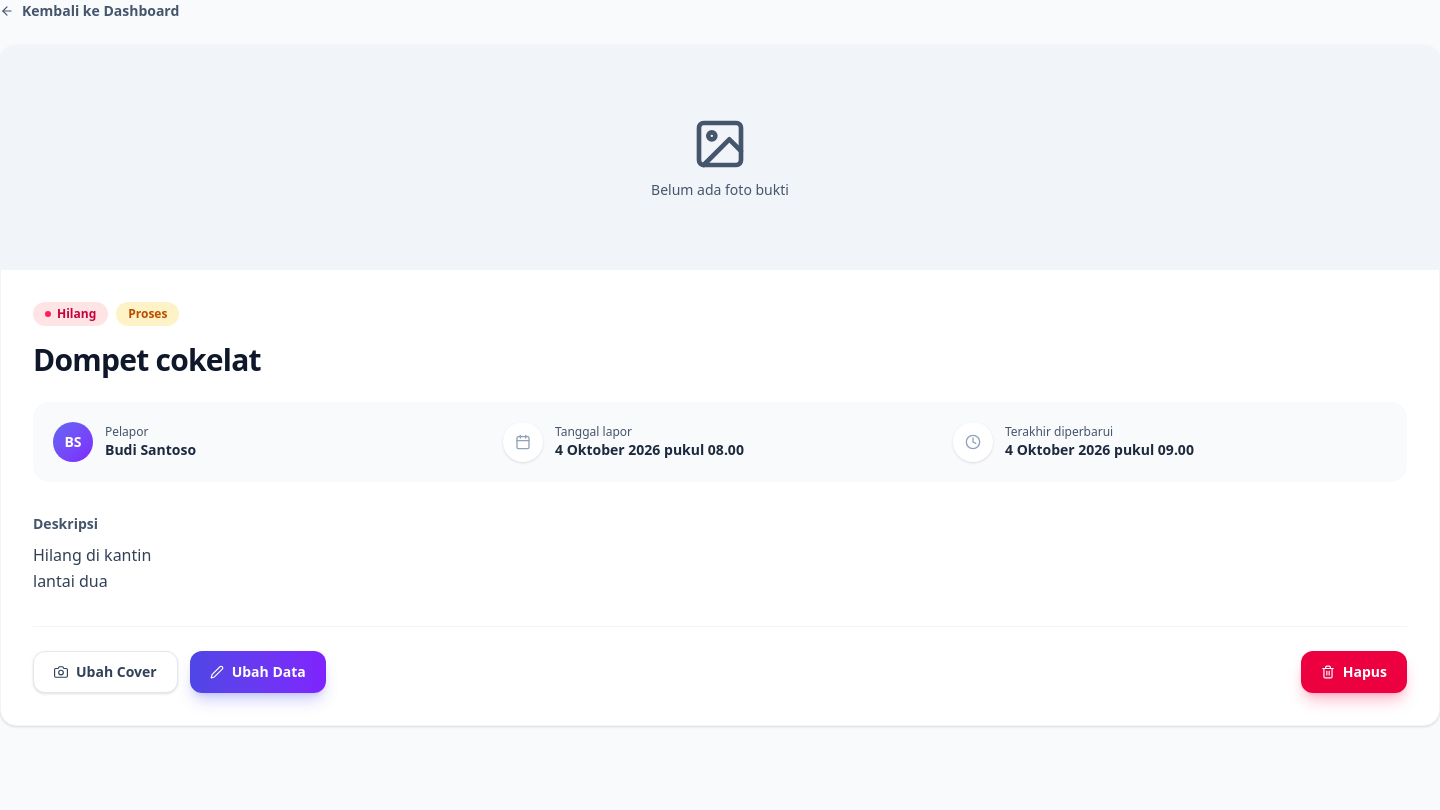
Scenario: DetailPage › ubah cover › menutup modal saat dibatalkan
The image size is (1440, 810).
expect the heading "Dompet cokelat" is shown: met, box [33, 339, 261, 380]
Click the button "Ubah Cover": (105, 672) [33, 651, 178, 693]
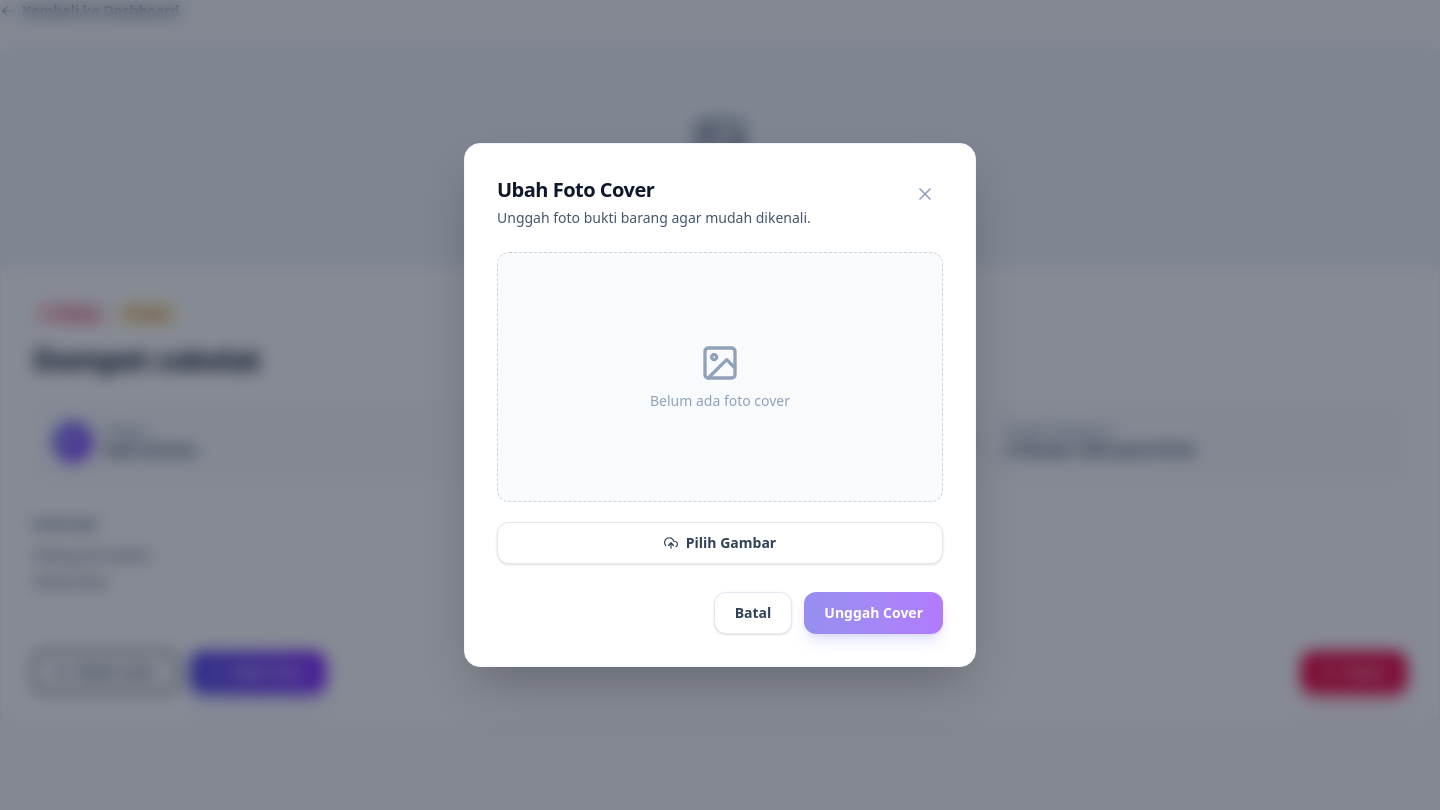
Click the button "Batal": (753, 613) [714, 592, 792, 634]
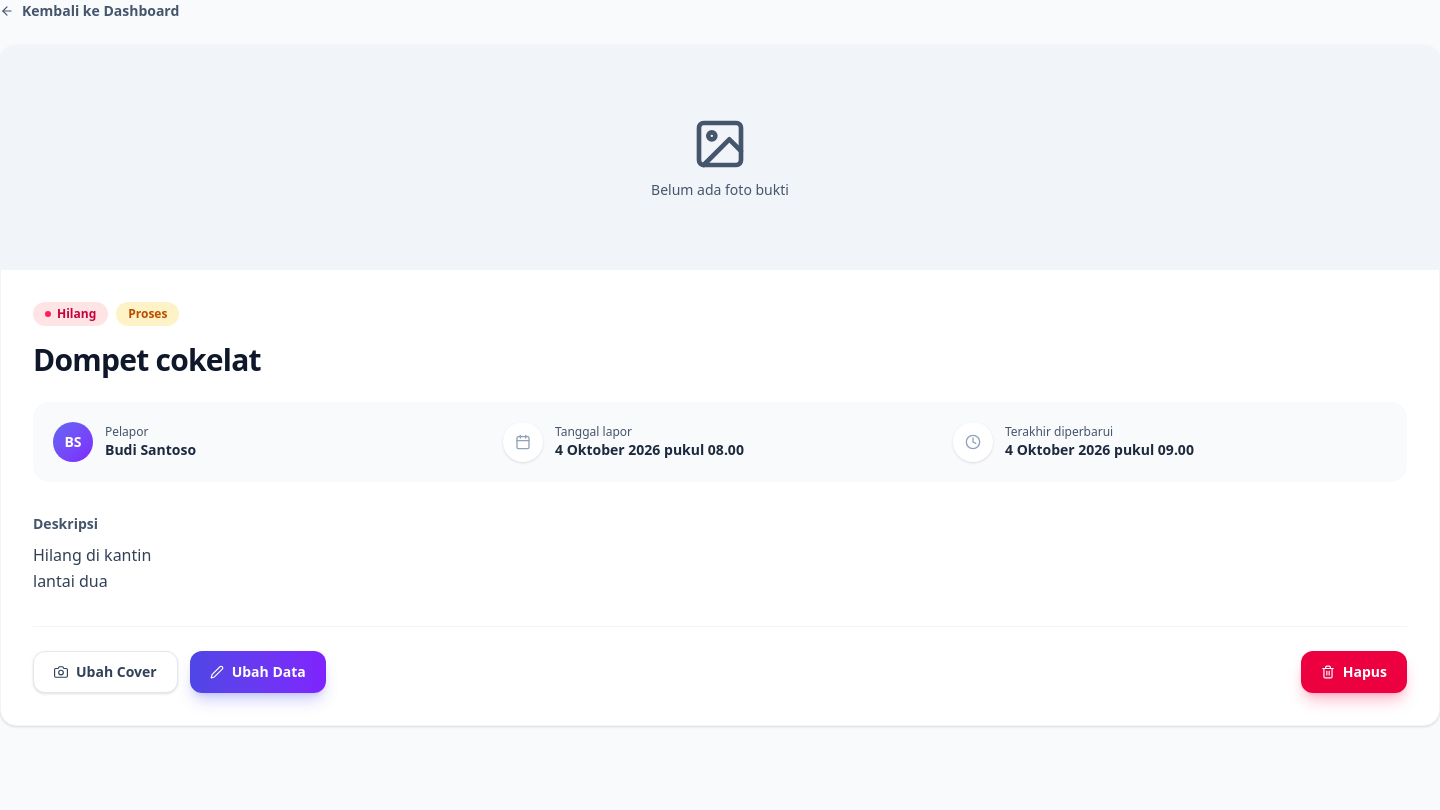
expect the dialog is gone: met
